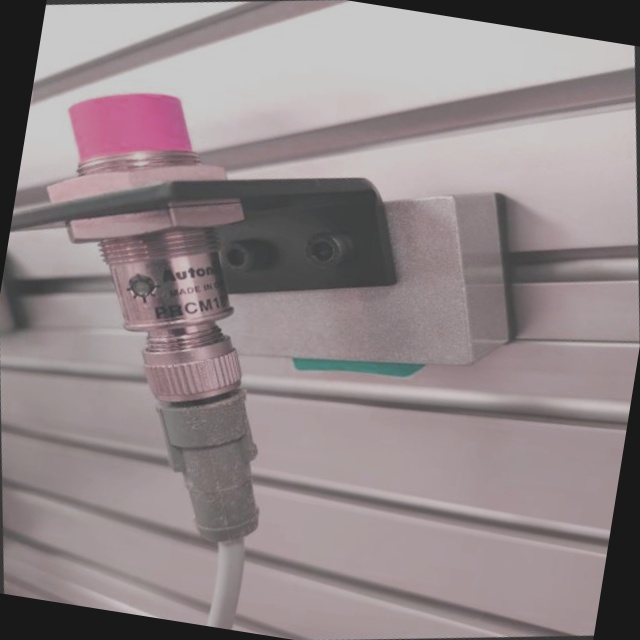inductive sensor: (0, 6, 598, 639)
